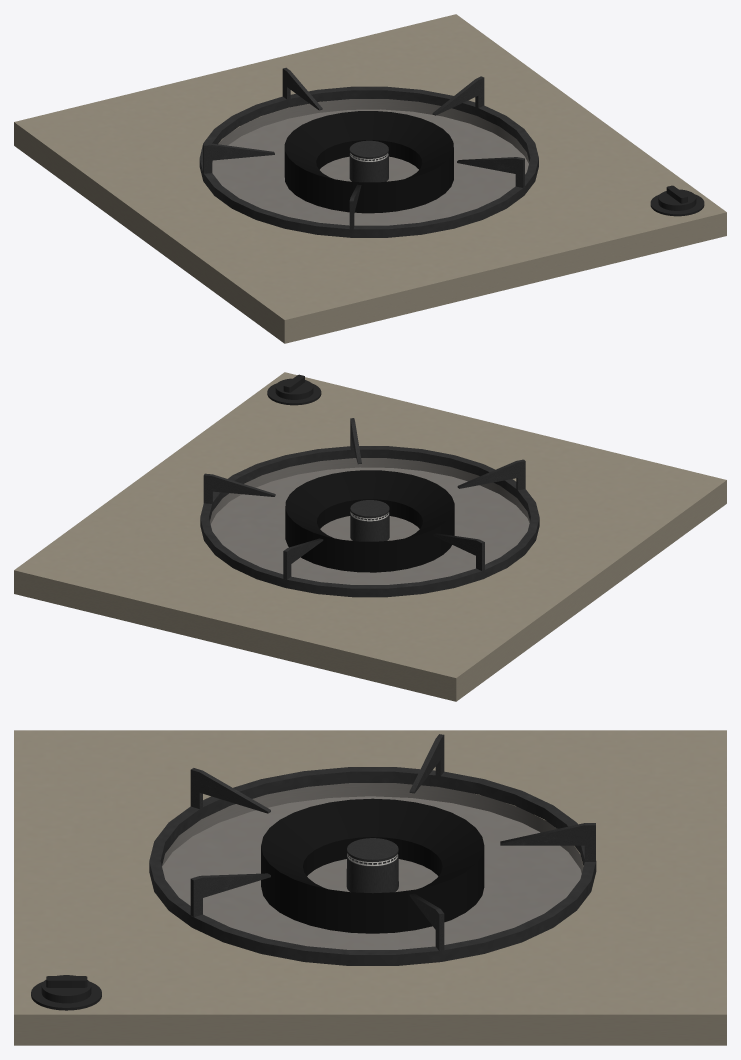
Rendered from GasStove06.fbx.
3 renders of one model, top to bottom at view 1: azimuth 30°, elevation 25°; view 2: azimuth 150°, elevation 25°; view 3: azimuth 270°, elevation 25°, orthographic. The views are drawn at different scales.
Parts seen in each view (by area): view 1: GasStove06, GasStove06_Knob01; view 2: GasStove06, GasStove06_Knob01; view 3: GasStove06, GasStove06_Knob01.
Boxes of the visible parts, bbox=[...] form: GasStove06: bbox=[14, 14, 726, 343]; GasStove06_Knob01: bbox=[658, 185, 696, 210]; GasStove06: bbox=[14, 372, 726, 701]; GasStove06_Knob01: bbox=[275, 374, 313, 399]; GasStove06: bbox=[14, 730, 726, 1045]; GasStove06_Knob01: bbox=[41, 975, 91, 1003].
Size of the model in its own units: 36.11 by 4.69 by 38.29.
